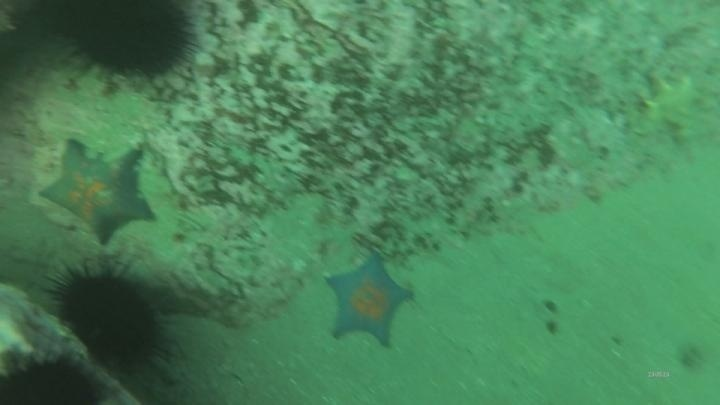echinus: (45, 258, 176, 378), (33, 1, 201, 85), (0, 347, 108, 404)
holothurian: (629, 66, 718, 143)
starfish: (35, 137, 158, 248), (321, 252, 415, 349)
